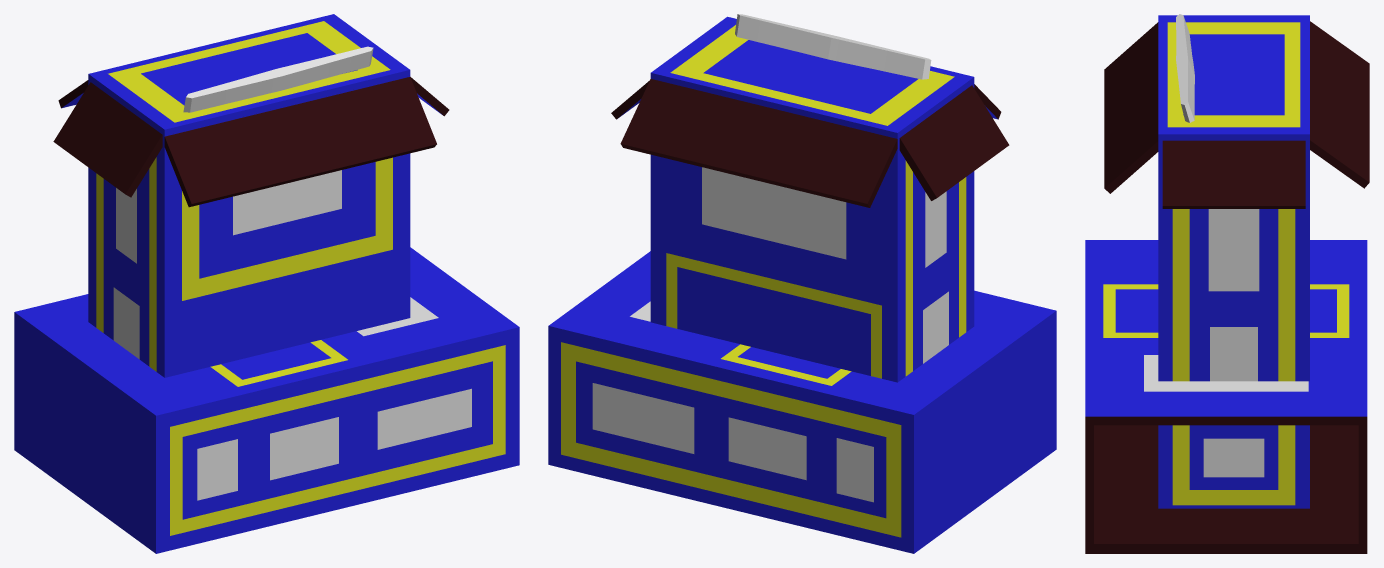
File: boxItem.fbx
3 views of the same model, side by side, from view 1: azimuth 30°, elevation 25°; view 2: azimuth 150°, elevation 25°; view 3: azimuth 270°, elevation 25° (orthographic).
Visible parts, largest first — view 1: EmptyBox, Box, OpenLid, ClosedLid, cheesepack; view 2: EmptyBox, Box, OpenLid, ClosedLid, cheesepack; view 3: EmptyBox, Box, OpenLid, ClosedLid, cheesepack.
Part boxes in pixels (x1=…): EmptyBox: x1=14, y1=247, x2=519, y2=553; Box: x1=88, y1=76, x2=410, y2=377; OpenLid: x1=53, y1=76, x2=449, y2=207; ClosedLid: x1=88, y1=14, x2=410, y2=135; cheesepack: x1=183, y1=46, x2=373, y2=112; EmptyBox: x1=548, y1=251, x2=1056, y2=553; Box: x1=650, y1=83, x2=974, y2=382; OpenLid: x1=611, y1=79, x2=1009, y2=207; ClosedLid: x1=650, y1=16, x2=974, y2=138; cheesepack: x1=735, y1=14, x2=931, y2=79; EmptyBox: x1=1085, y1=240, x2=1367, y2=553; Box: x1=1158, y1=140, x2=1309, y2=508; OpenLid: x1=1104, y1=21, x2=1369, y2=208; ClosedLid: x1=1158, y1=15, x2=1309, y2=140; cheesepack: x1=1176, y1=14, x2=1194, y2=122.
Size of the model in its own units: 41.81 by 44.56 by 28.47.
